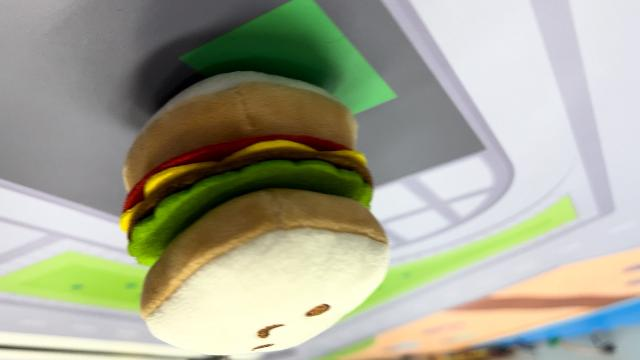sandwich: (117, 69, 393, 355)
